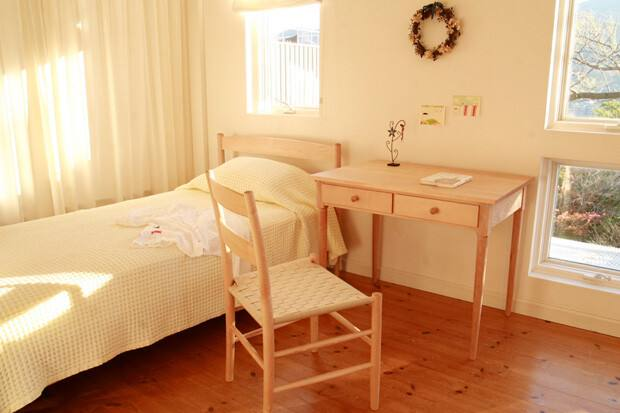床: (0, 187, 252, 390)
枕头: (196, 146, 325, 214)
